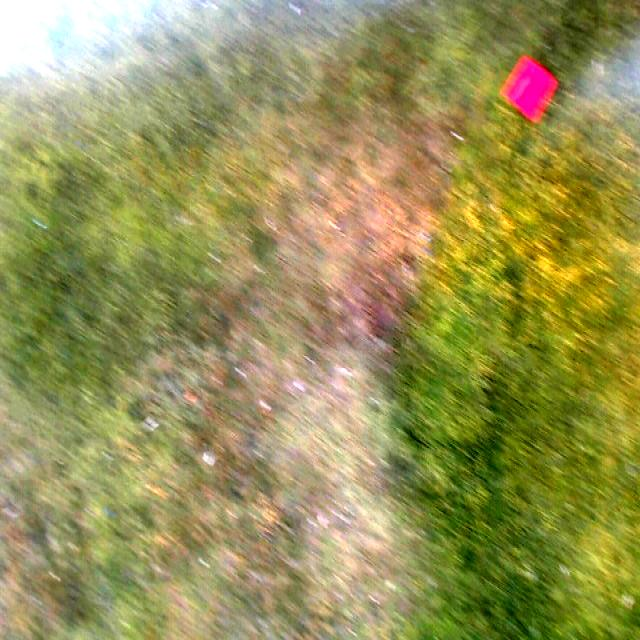red_square: (502, 54, 556, 122)
